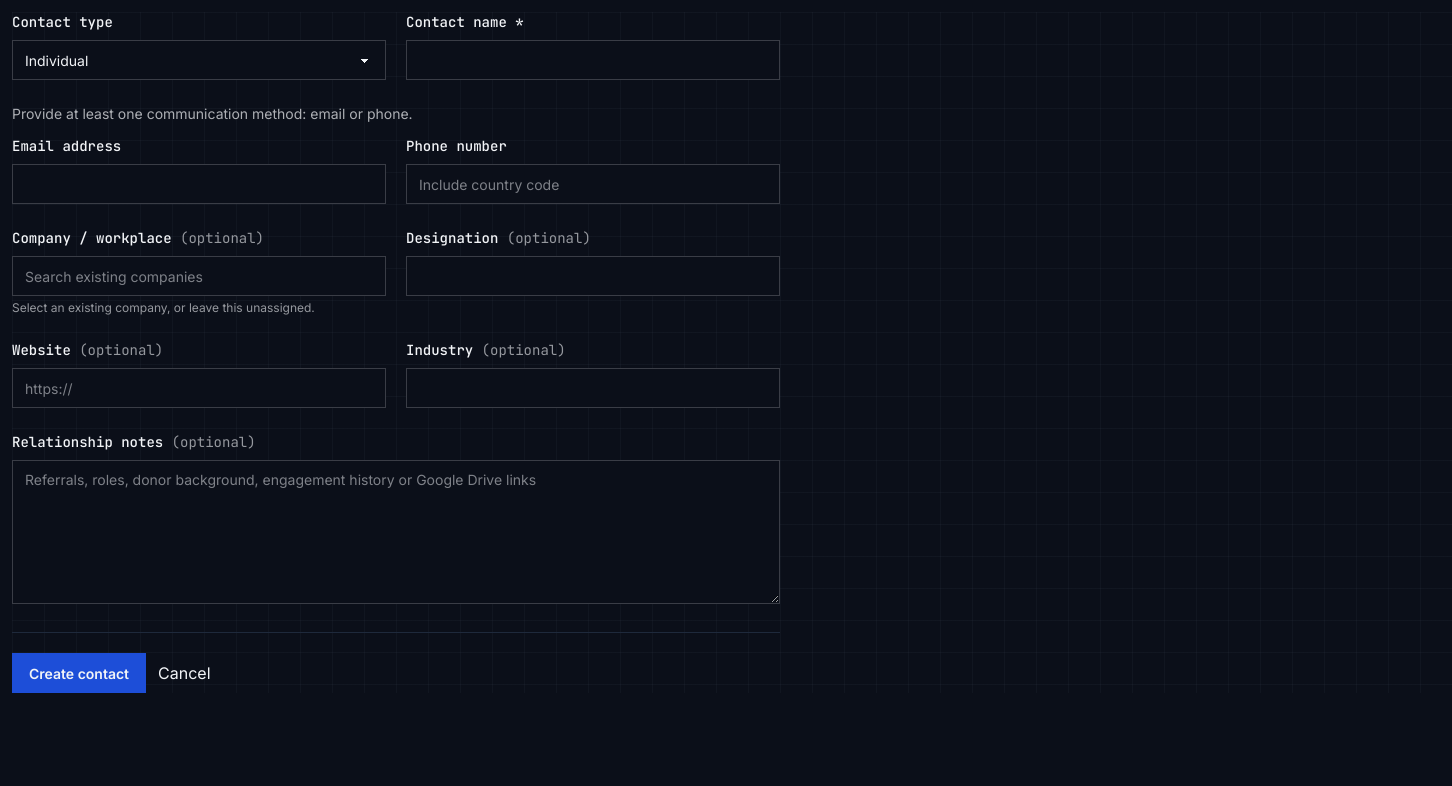
Test: contact form interactions › shows normalized duplicate matches while the user fills the form
In the field labelled "Email address": {"x": 199, "y": 184} [12,164,386,204], type "existing@example.invalid"
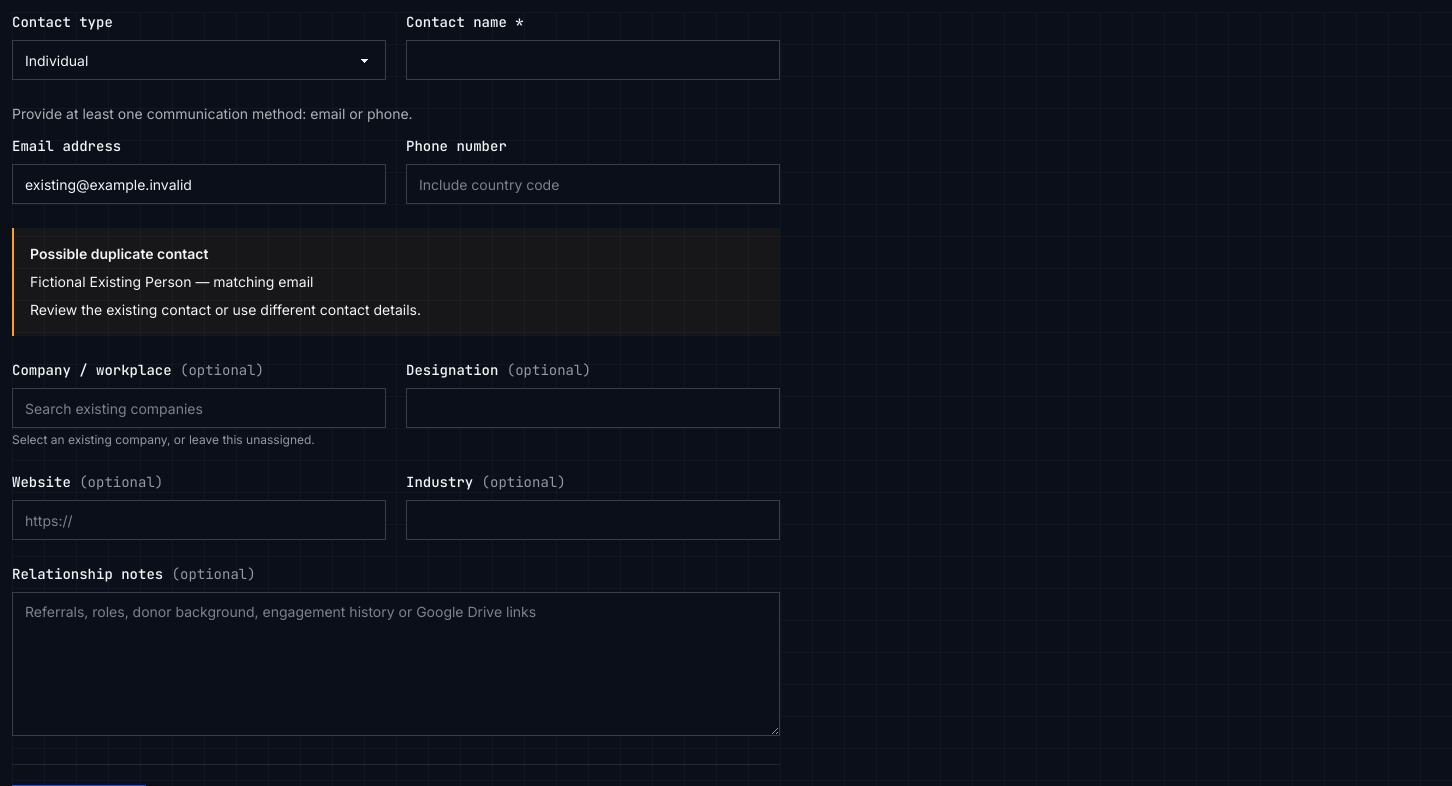
Check: the text "Possible duplicate contact" is shown, box [30,245,208,262]
